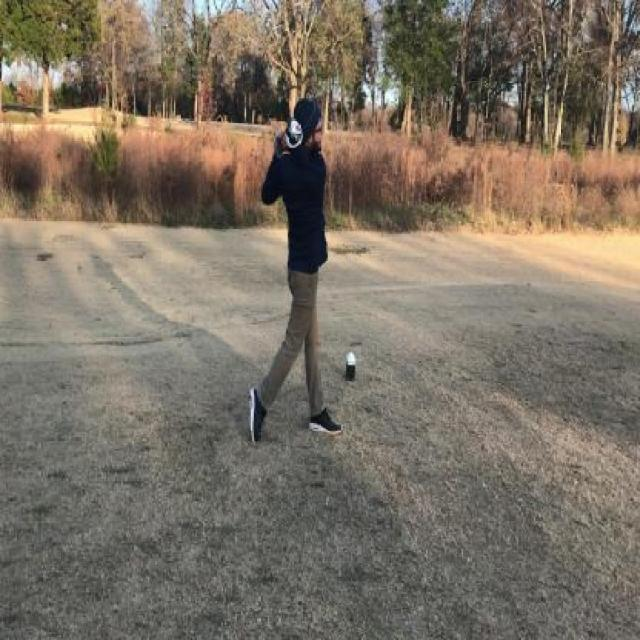club head: (285, 116, 303, 149)
